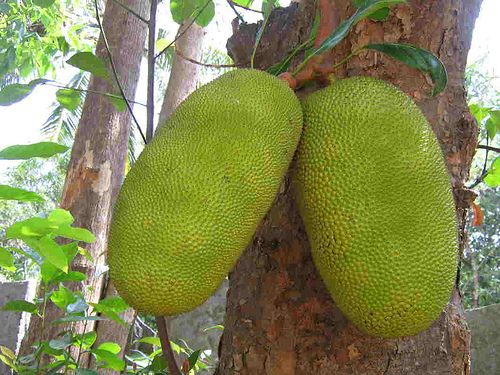jackfruit: (105, 67, 302, 318), (300, 77, 461, 338)
